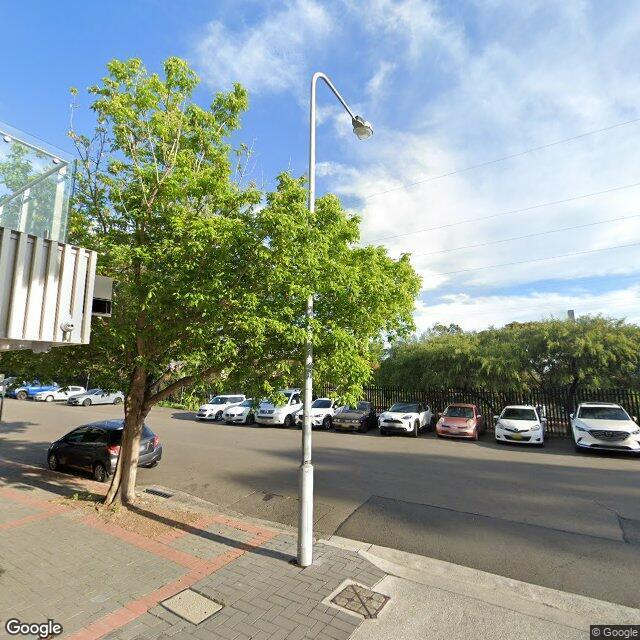steel-pole: (296, 74, 316, 566)
streetlight: (317, 71, 375, 140)
